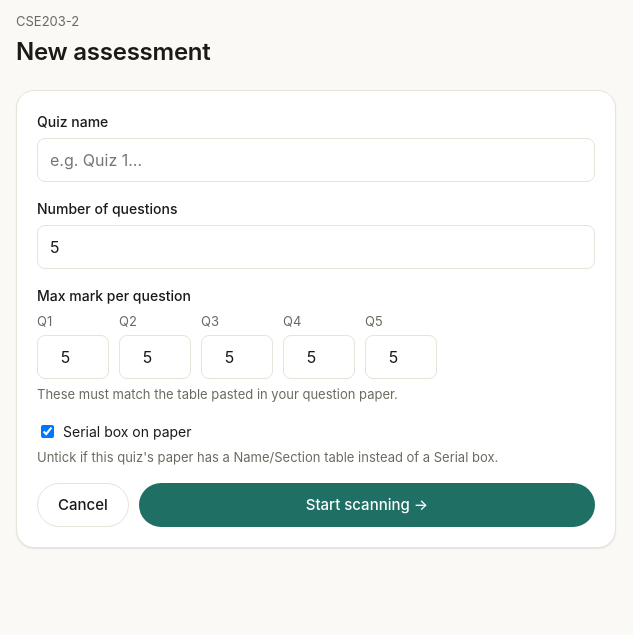
Test: AssessmentForm — creating a quiz › refuses to save with no quiz name
Click the button "Start scanning →": click(367, 505) [139,483,595,527]
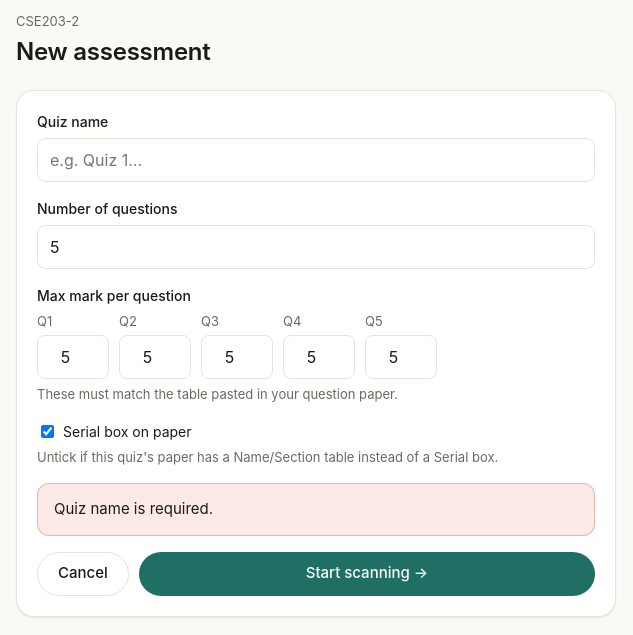
Expected: the text "Quiz name is required." is shown, [54,499,213,518]
